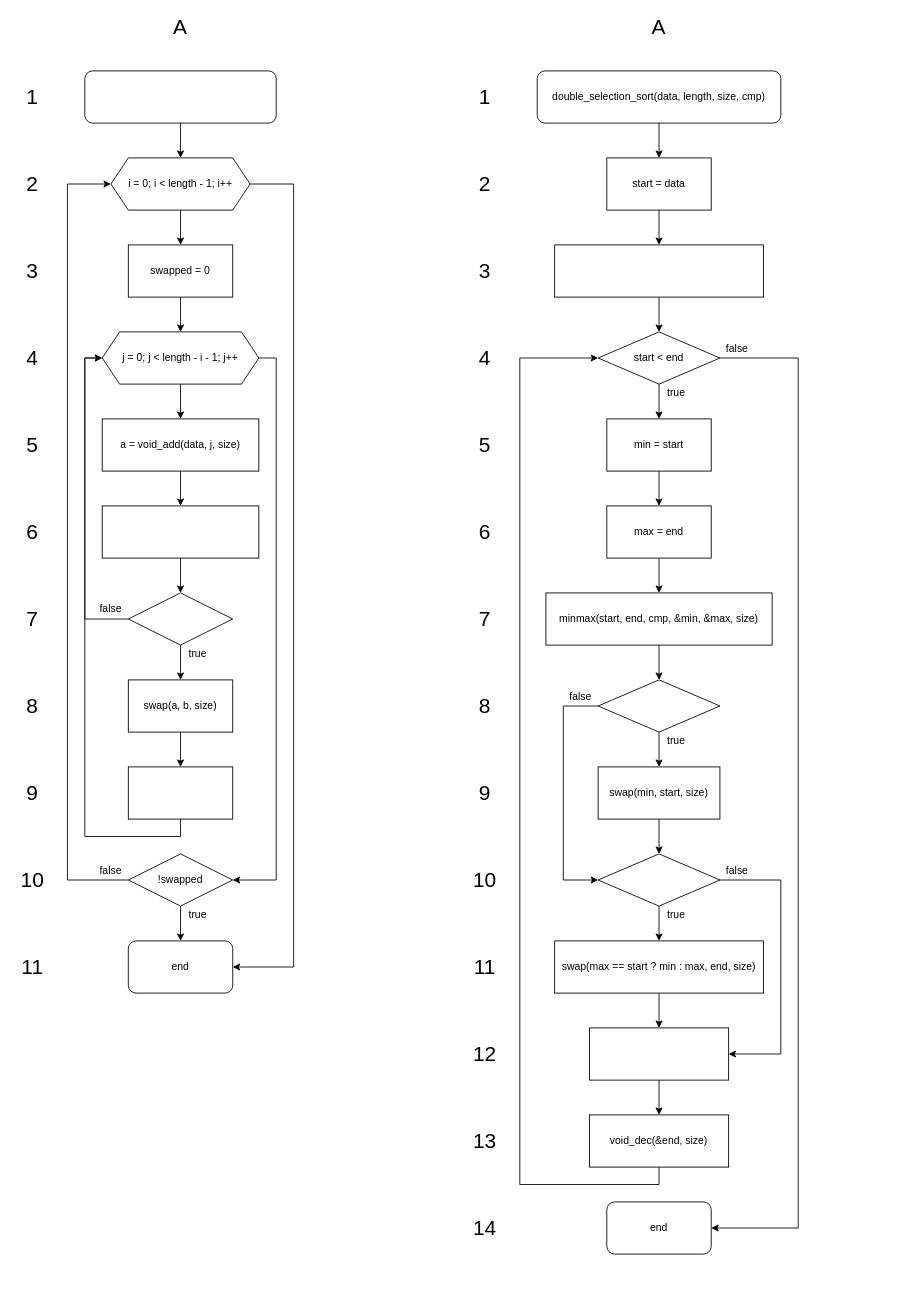
The diagram is 900 pixels wide and 1313 high, and some of its shapes have lost their labels. Each missing label, with the centre of its shape:
"b = void_add(data, j + 1, size)" goes at pixel 180 531.
"bubble_sort(data, length, size, cmp)" goes at pixel 180 96.
"cmp(a, b) > 0" goes at pixel 180 618.
"end = void_add(data, length - 1, size)" goes at pixel 658 270.
"max != end" goes at pixel 658 879.
"min != start" goes at pixel 658 705.
"swapped = 1" goes at pixel 180 792.
"void_inc(&start, size)" goes at pixel 659 1053.
